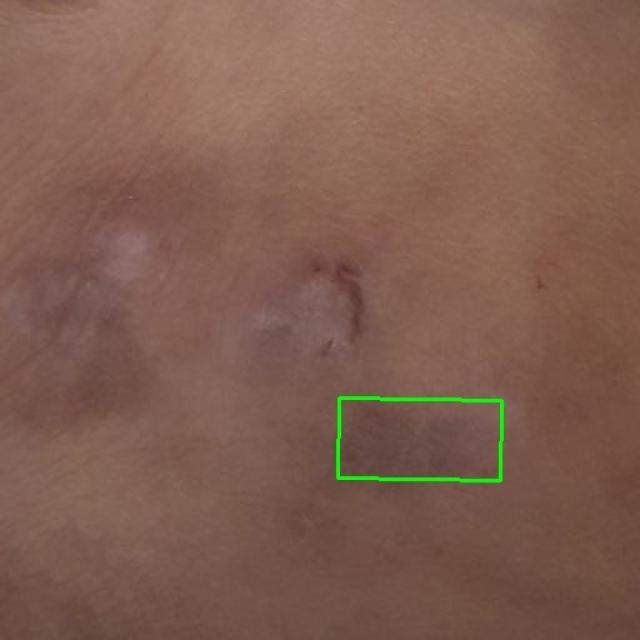Eczema: (338, 398, 502, 480)
